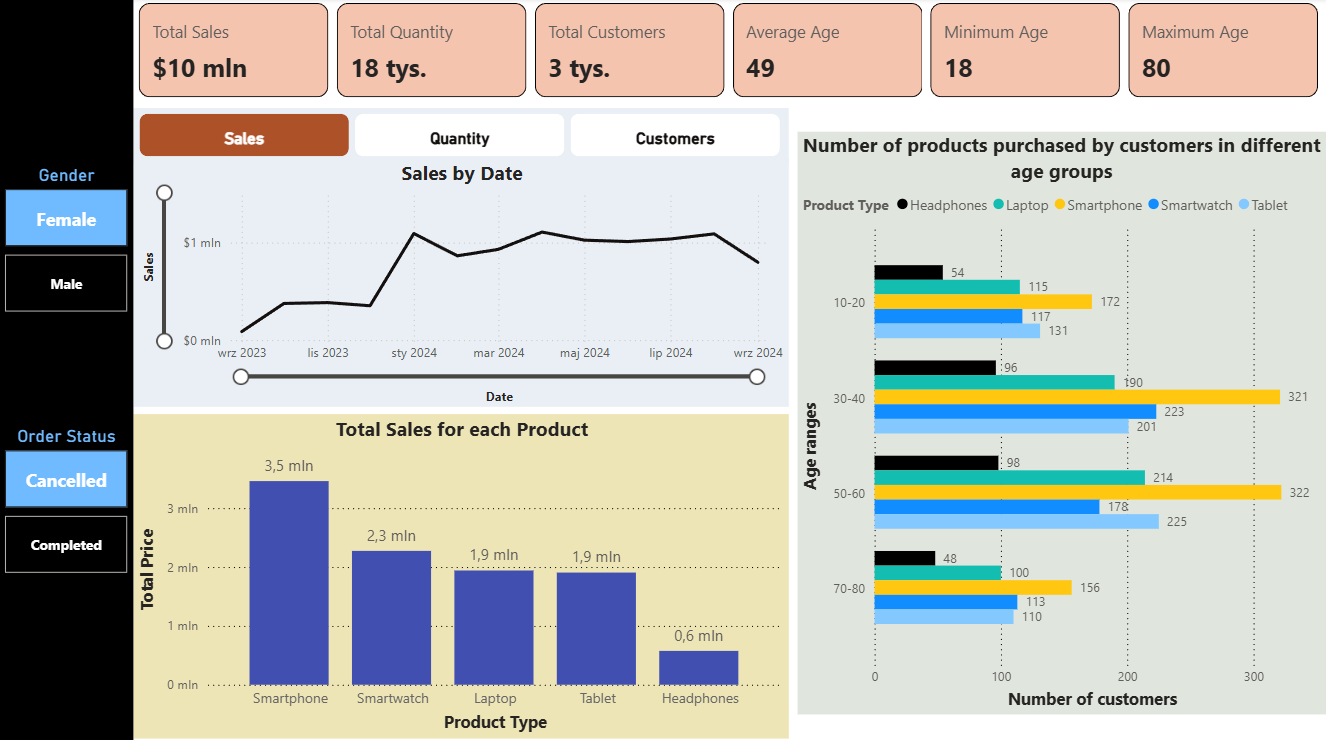

The dashboard page shown, as its layout file describes it:
{"tool":"powerbi","page":{"name":"Strona 1","canvas":[1280,720],"ordinal":0},"visuals":[{"type":"cardVisual","fields":{"Data":["_Measures.Total_Sales","_Measures.Total_Quantity","_Measures.Total_Customers","_Measures.Average Age","_Measures.Minimum Age","_Measures.Maximum Age"]},"box":[129.1,0,1151.1,101.1],"z":0},{"type":"lineChart","fields":{"Y":["_Measures.Total Sales"],"Category":["Electronic_sales_Sep2023-Sep2024.Purchase Date.Odmiana.Hierarchia dat.Rok","Electronic_sales_Sep2023-Sep2024.Purchase Date.Odmiana.Hierarchia dat.Miesiąc"]},"box":[129.1,155,632.2,240],"z":1000},{"type":"advancedSlicerVisual","fields":{"Values":["Measure Selector.Measure Selector"]},"box":[129.1,106,632.2,53.6],"z":2000},{"type":"columnChart","title":"Total Sales for each Product","fields":{"Category":["Electronic_sales_Sep2023-Sep2024.Product Type"],"Y":["Sum(Electronic_sales_Sep2023-Sep2024.Total Price)"]},"box":[129.1,402,632.2,313.1],"z":3000},{"type":"clusteredBarChart","title":"Number of products purchased by customers in different age groups","fields":{"Series":["Electronic_sales_Sep2023-Sep2024.Product Type"],"Y":["CountNonNull(Electronic_sales_Sep2023-Sep2024.Customer ID)"],"Category":["Electronic_sales_Sep2023-Sep2024.Age (grupy)"]},"box":[770,128.8,510,562.5],"z":4000},{"type":"shape","box":[0,0,128.8,720],"z":5000},{"type":"advancedSlicerVisual","fields":{"Values":["Electronic_sales_Sep2023-Sep2024.Order Status"]},"box":[0,412.5,128.8,147.5],"z":6000},{"type":"advancedSlicerVisual","fields":{"Values":["Electronic_sales_Sep2023-Sep2024.Gender"]},"box":[0,160,128.8,147.5],"z":7000}]}

Visuals, with their boxes in screenshot pixels (x1, y1, x2, y2), scaled from the page's 1280x720 canvas onto the 1326x740 screenshot:
cardVisual - _Measures.Total_Sales x _Measures.Total_Quantity: bbox=[134, 0, 1325, 104]
lineChart - _Measures.Total Sales x Electronic_sales_Sep2023-Sep2024.Purchase Date.Odmiana.Hierarchia dat.Rok: bbox=[134, 159, 789, 406]
advancedSlicerVisual - Measure Selector.Measure Selector: bbox=[134, 109, 789, 164]
"Total Sales for each Product" columnChart: bbox=[134, 413, 789, 735]
"Number of products purchased by customers in different age groups" clusteredBarChart: bbox=[798, 132, 1325, 711]
shape: bbox=[0, 0, 133, 739]
advancedSlicerVisual - Electronic_sales_Sep2023-Sep2024.Order Status: bbox=[0, 424, 133, 576]
advancedSlicerVisual - Electronic_sales_Sep2023-Sep2024.Gender: bbox=[0, 164, 133, 316]
